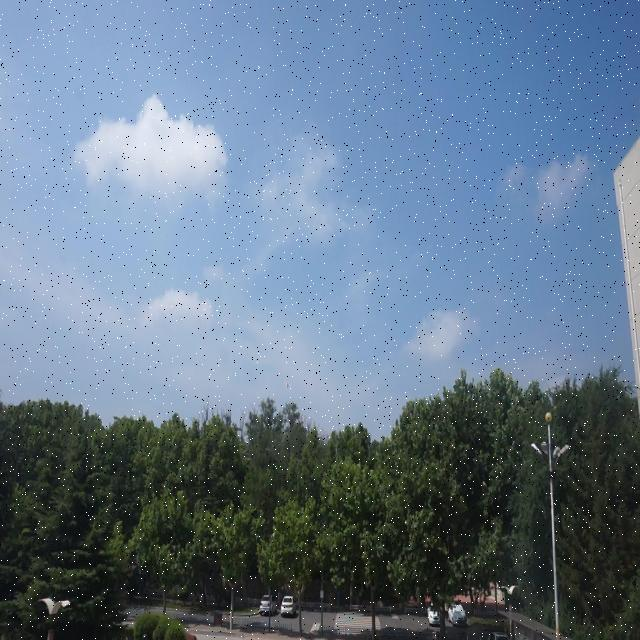UAV: (283, 380, 291, 388)
